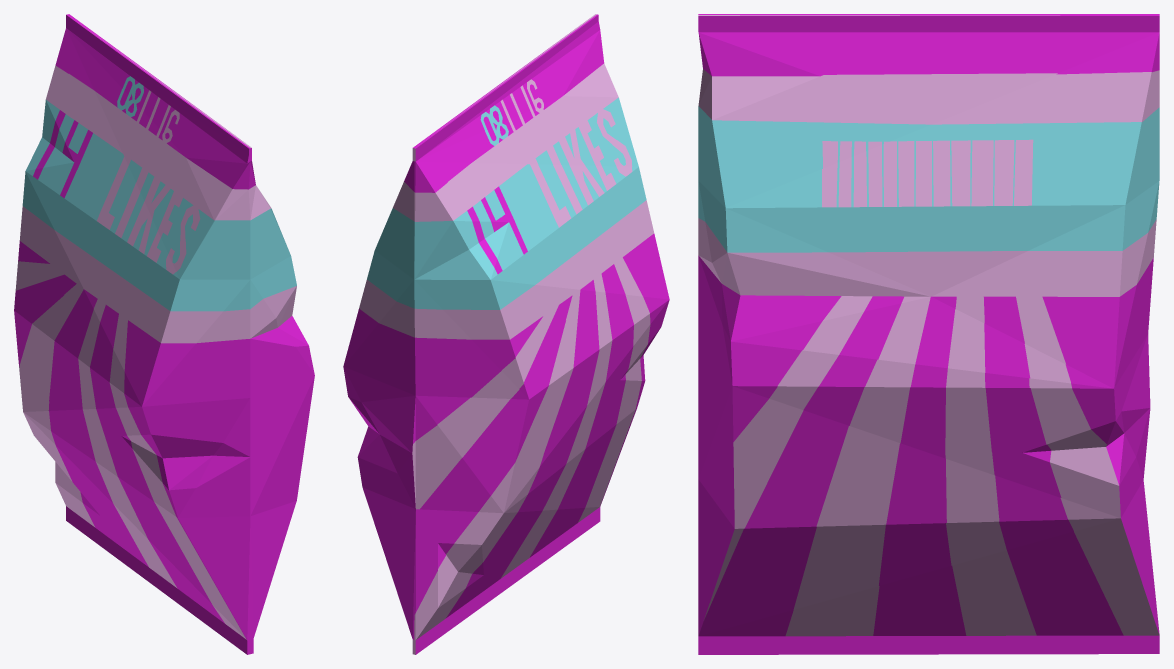
The model's file is PrawnCrisps.glb.
3 renders of one model, left to right at view 1: azimuth 30°, elevation 25°; view 2: azimuth 150°, elevation 25°; view 3: azimuth 270°, elevation 25°, orthographic. The views are drawn at different scales.
Visible parts, largest first — view 1: group478861069; view 2: group478861069; view 3: group478861069.
Boxes of the visible parts, left/top/right/bottom form: group478861069: left=14, top=14, right=314, bottom=654; group478861069: left=343, top=14, right=669, bottom=654; group478861069: left=698, top=14, right=1159, bottom=654.
Bounding box in the file's own units: 0.8384 × 2.26 × 1.48.
